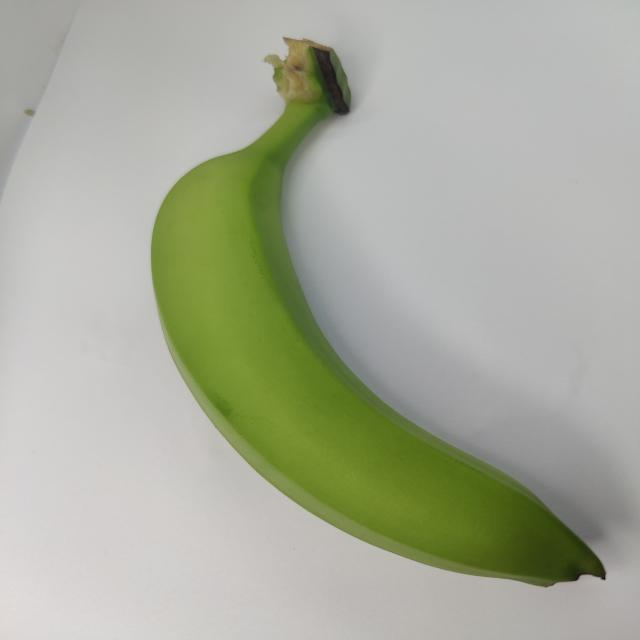raw: (98, 32, 615, 606)
